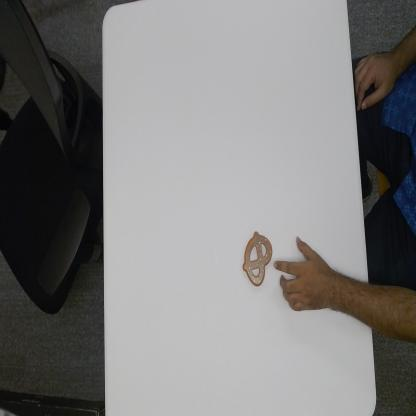Arm: (337, 267, 416, 350)
Hand: (272, 233, 337, 314)
Pretzel: (241, 229, 273, 287)
